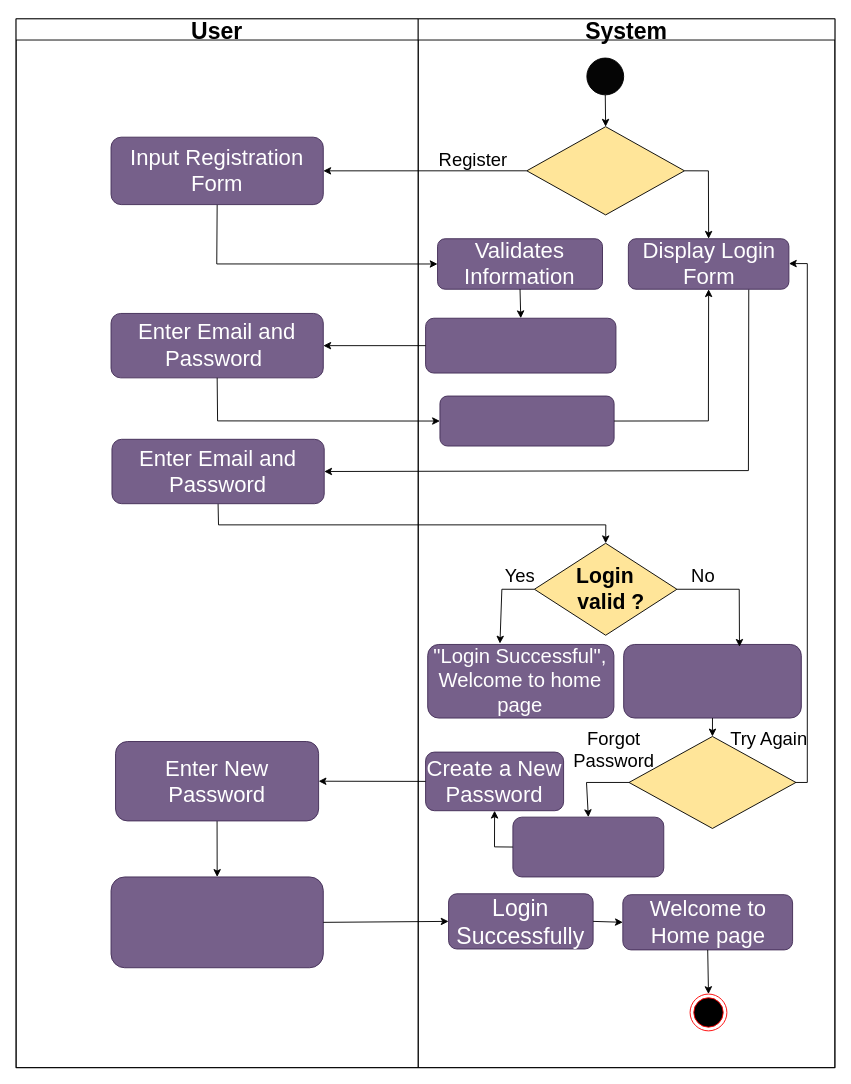
Image size: 851x1084. Some labels were removed from this diagram. Here are the shapes that lost their labels. From the top down, the centre of each, then its label:
(605,170): Login or Register
(520,345): Provide your email and Password
(526,420): Save details in the Database
(712,681): Display "Invalid Email and Password"
(712,782): Try Again OR Forgot Password
(588,846): Enter Email Address
(216,922): User Enter email and New Password to login
